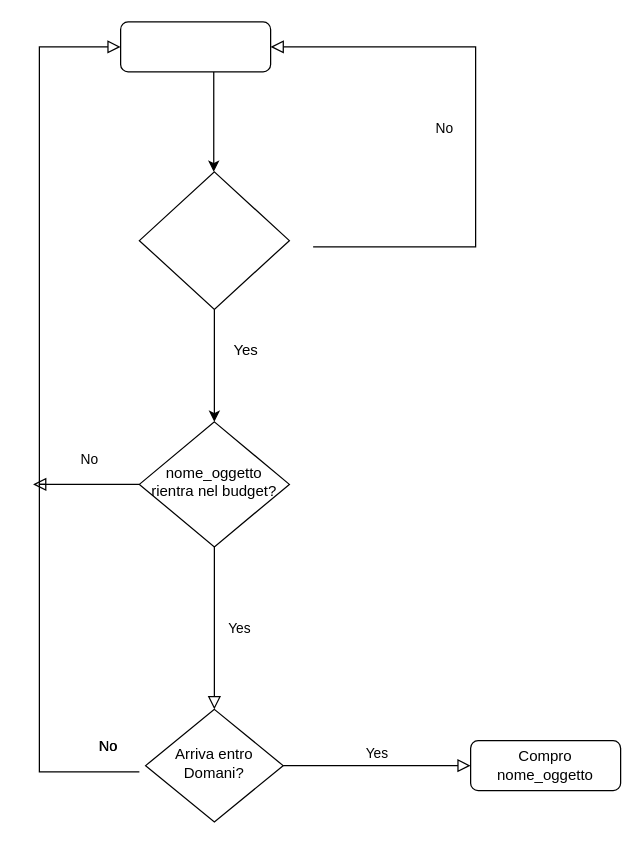
This 643x844 diagram has some shape labels left out. The shapes that lost their labels are listed below. From the top down, each one's box as (x1, y1, x2, y2) in pixels, then its label:
(119, 21, 271, 72): Start: Input nome_oggetto
(138, 171, 289, 309): nome_oggetto piace alla festeggiata?
